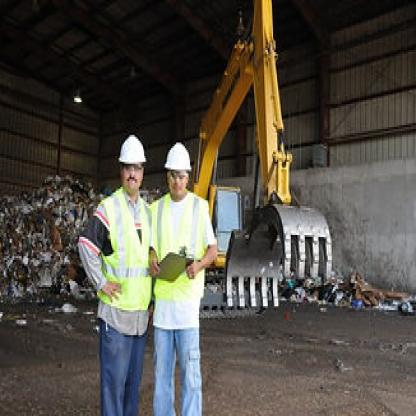person: (148, 123, 223, 414), (74, 123, 148, 414)
